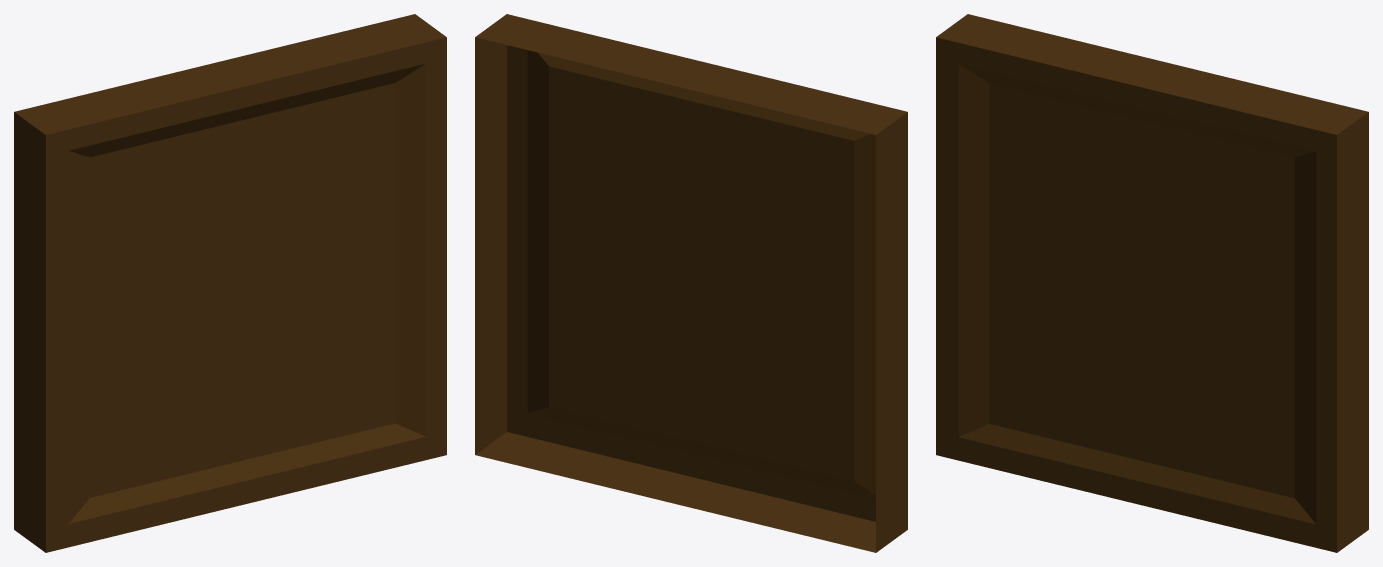
Rendered from CuadroPequeño.fbx.
The picture shows the model from 3 angles, left to right: view 1: azimuth 30°, elevation 25°; view 2: azimuth 150°, elevation 25°; view 3: azimuth 330°, elevation 25°; orthographic projection.
Parts seen in each view (by area): view 1: Cuadro2; view 2: Cuadro2; view 3: Cuadro2.
Part boxes in pixels (x1,y1,x2,y2): Cuadro2: [14, 14, 446, 552]; Cuadro2: [475, 14, 907, 552]; Cuadro2: [936, 14, 1368, 552].
Bounding box in the file's own units: 1.23 × 1.22 × 0.1688.
